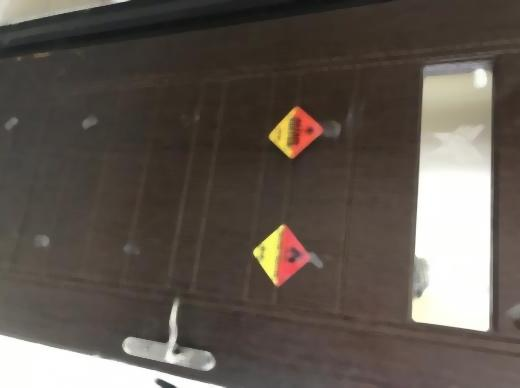organic-peroxide: (252, 222, 314, 289), (267, 105, 325, 164)
